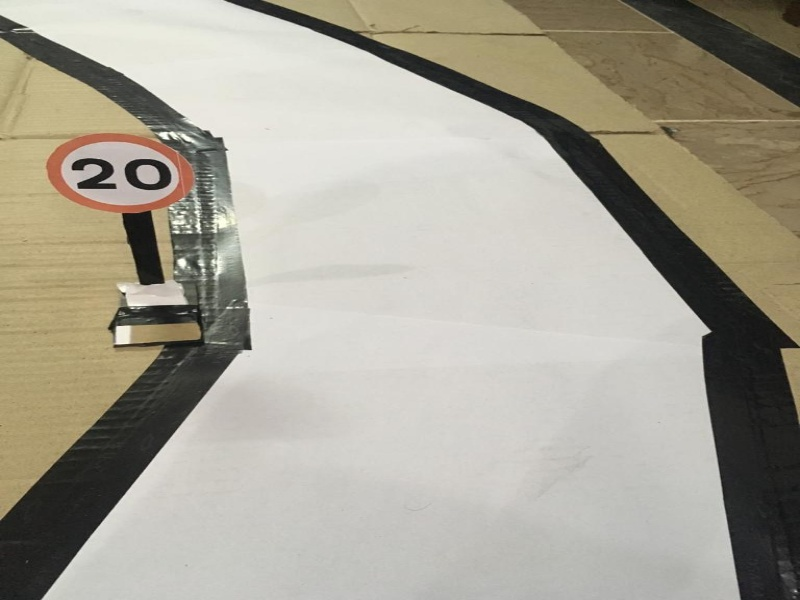Speed Limit 20: (40, 129, 195, 217)
